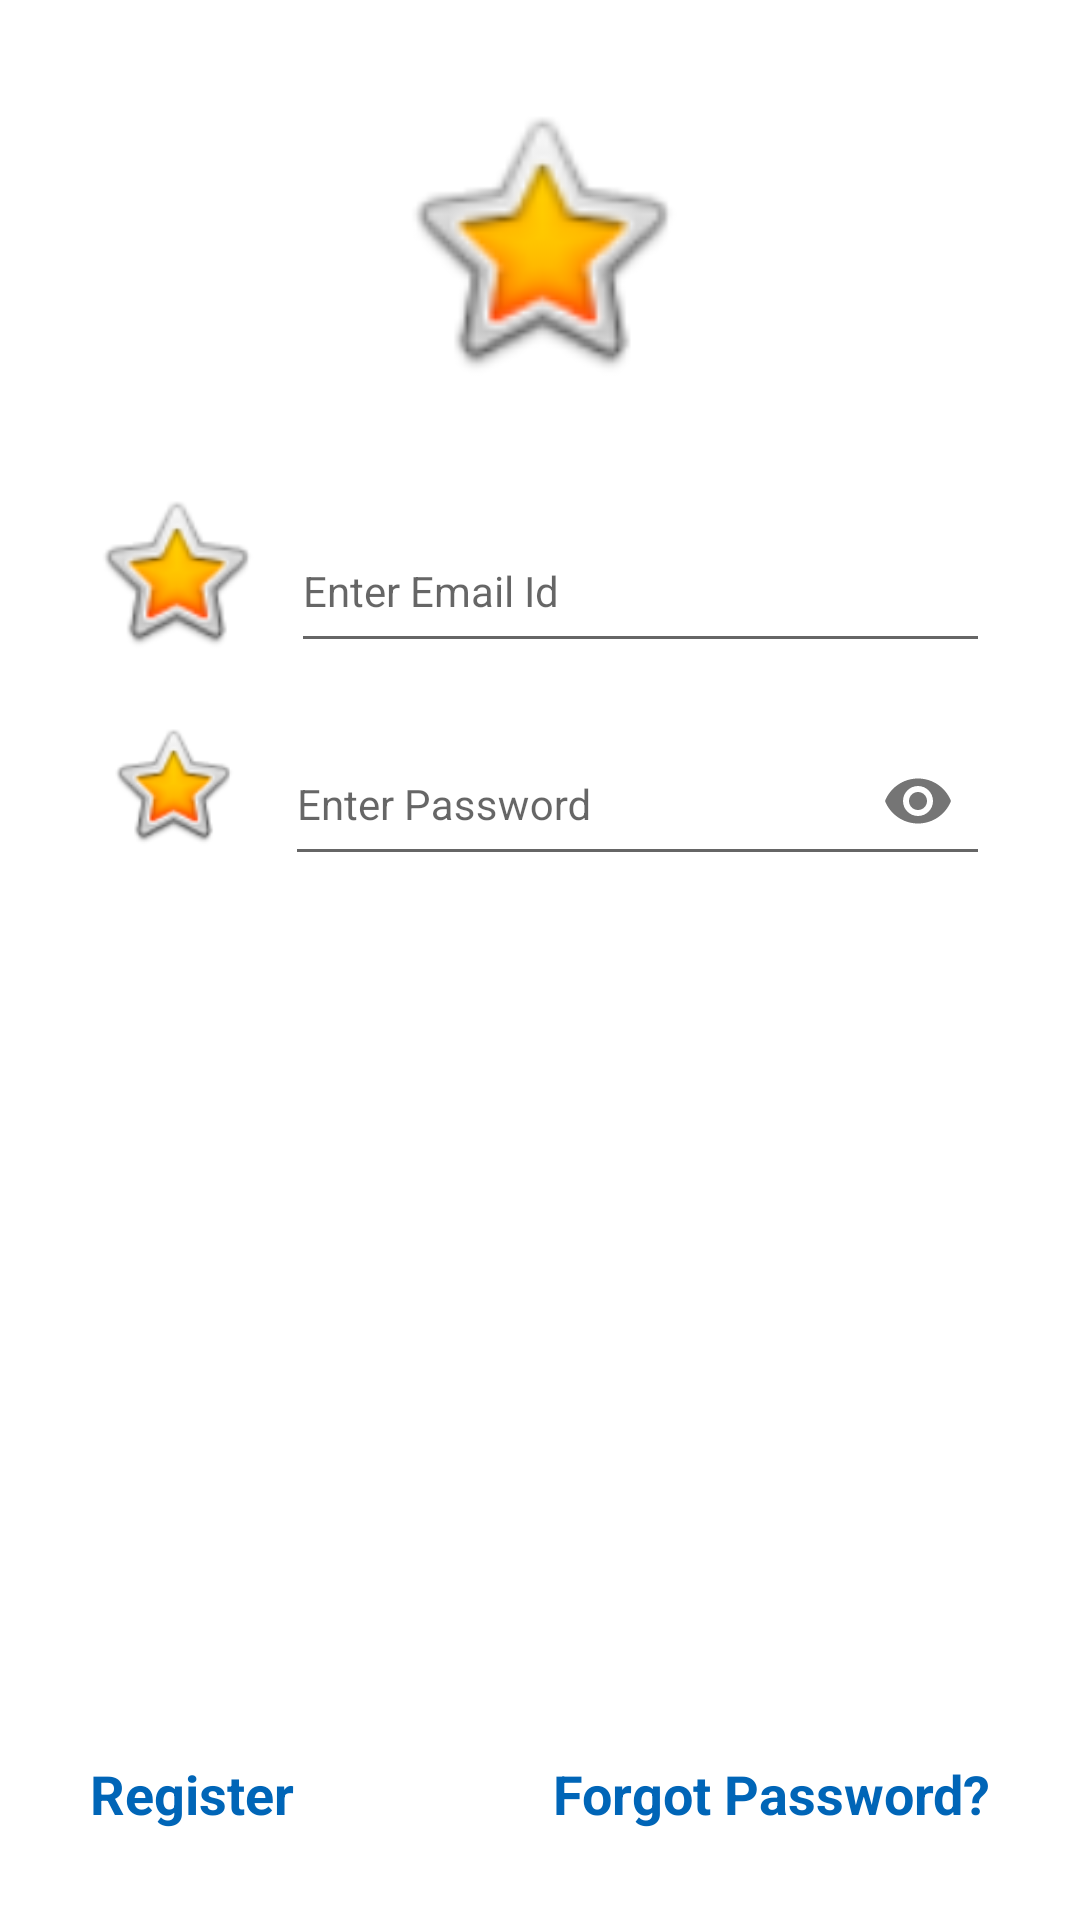

Where to tap for icons on this 1080 x 1920 app screen, as point (x, y):
star on: point (542, 242), point (176, 573), point (173, 785)
